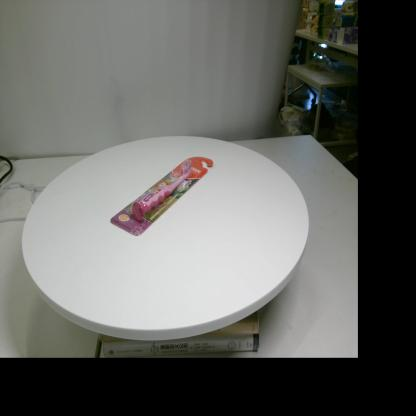Personal Hygiene: (110, 157, 213, 236)
